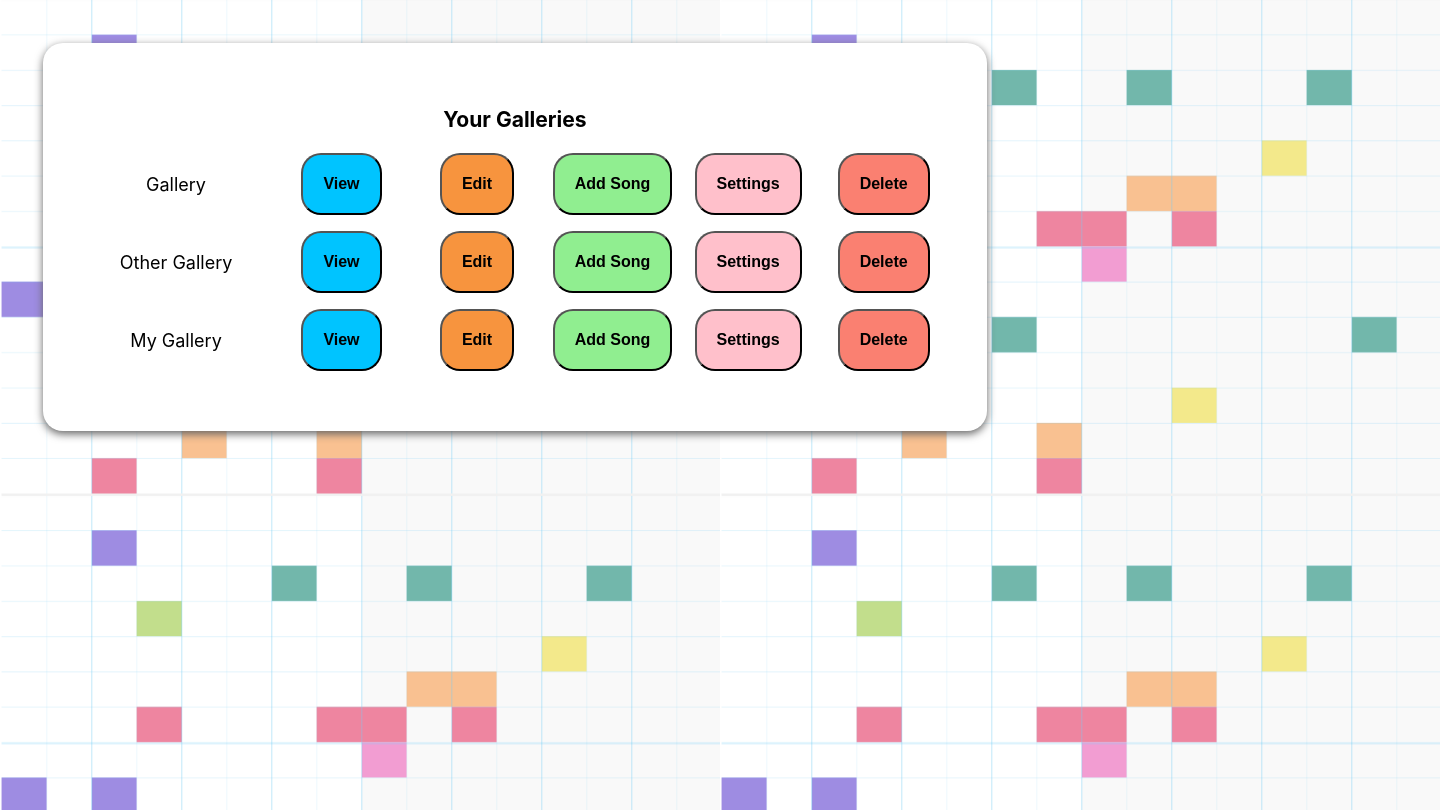
<ListGalleries /> › confirm delete modal is dismissable
Click the 1st button with test id "deleteGalleryBtn" at (884, 184), box [838,154,930,216]
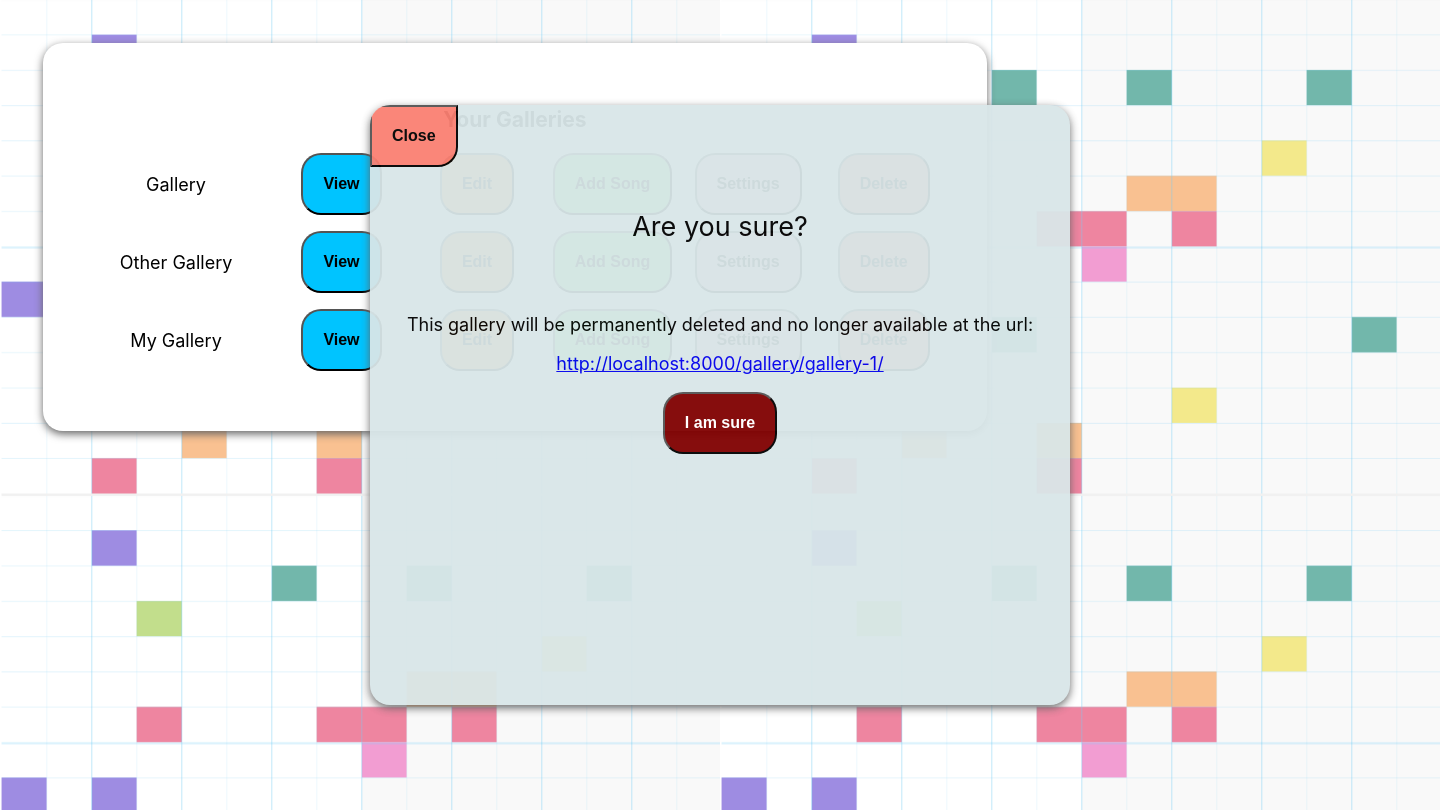
Expected: the button with test id "dismissBlanketButton" is shown
Click the button with test id "dismissBlanketButton" at (414, 136), box [370,105,458,167]
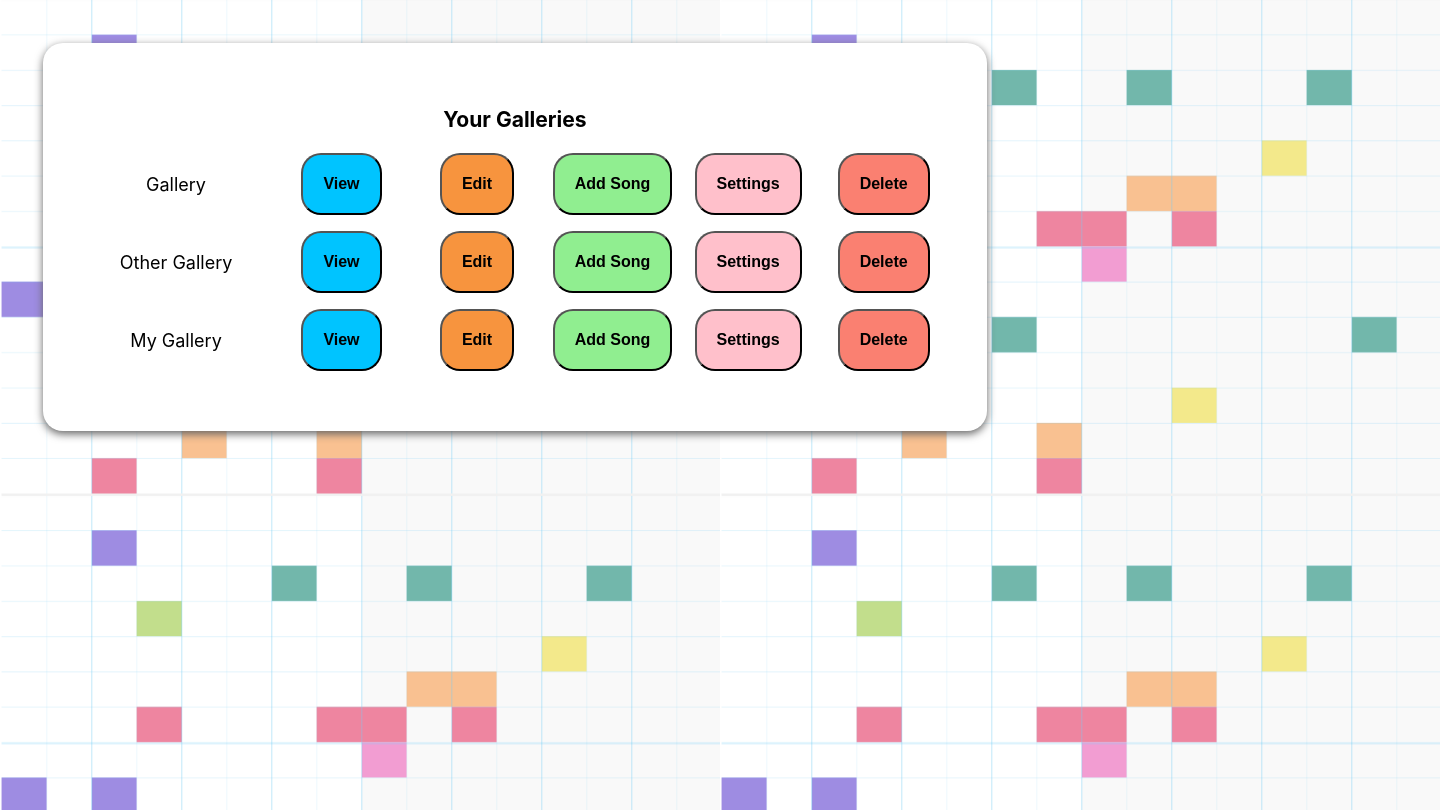
Expected: the button with test id "dismissBlanketButton" is gone
